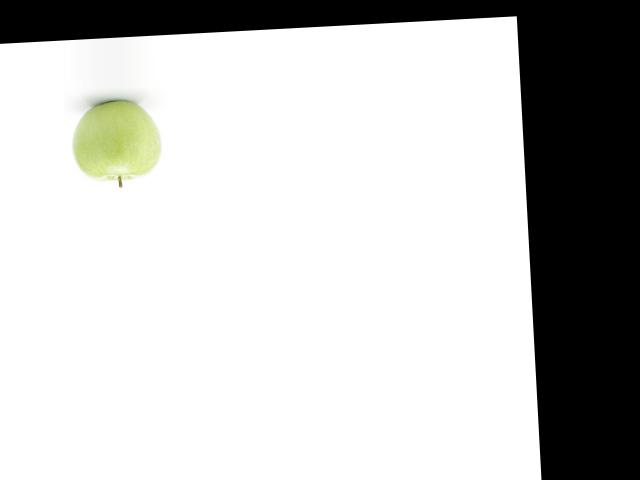apple: (65, 95, 165, 189)
